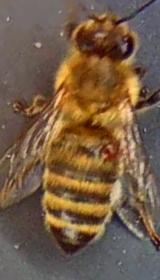varroa_mite: (96, 134, 126, 166)
